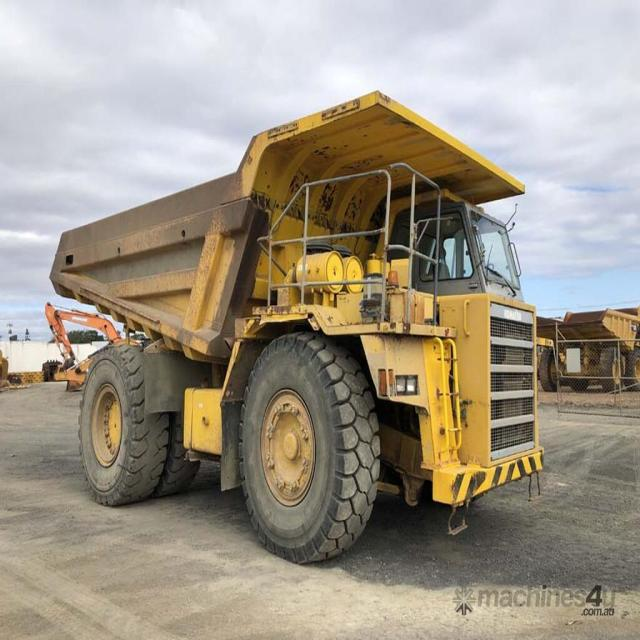dump_truck: (41, 87, 549, 566)
